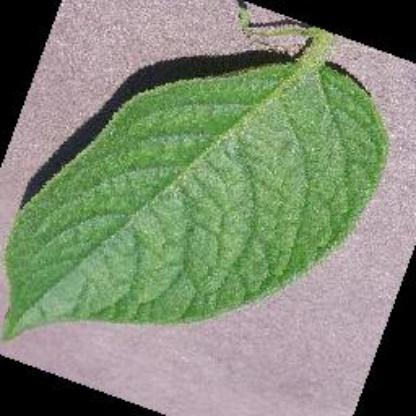Healthy-plant: (0, 8, 390, 352)
